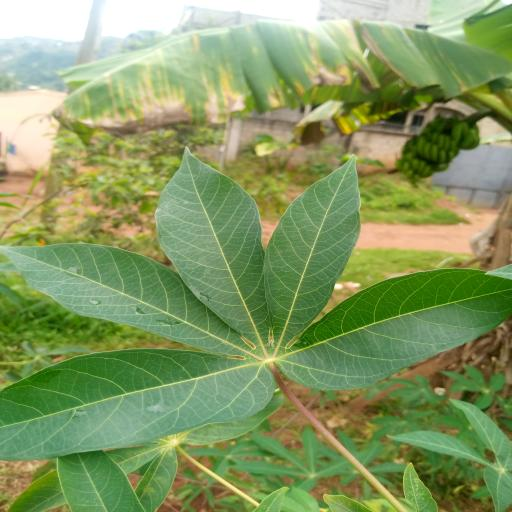Cassava_Healthy: (0, 143, 512, 464)
